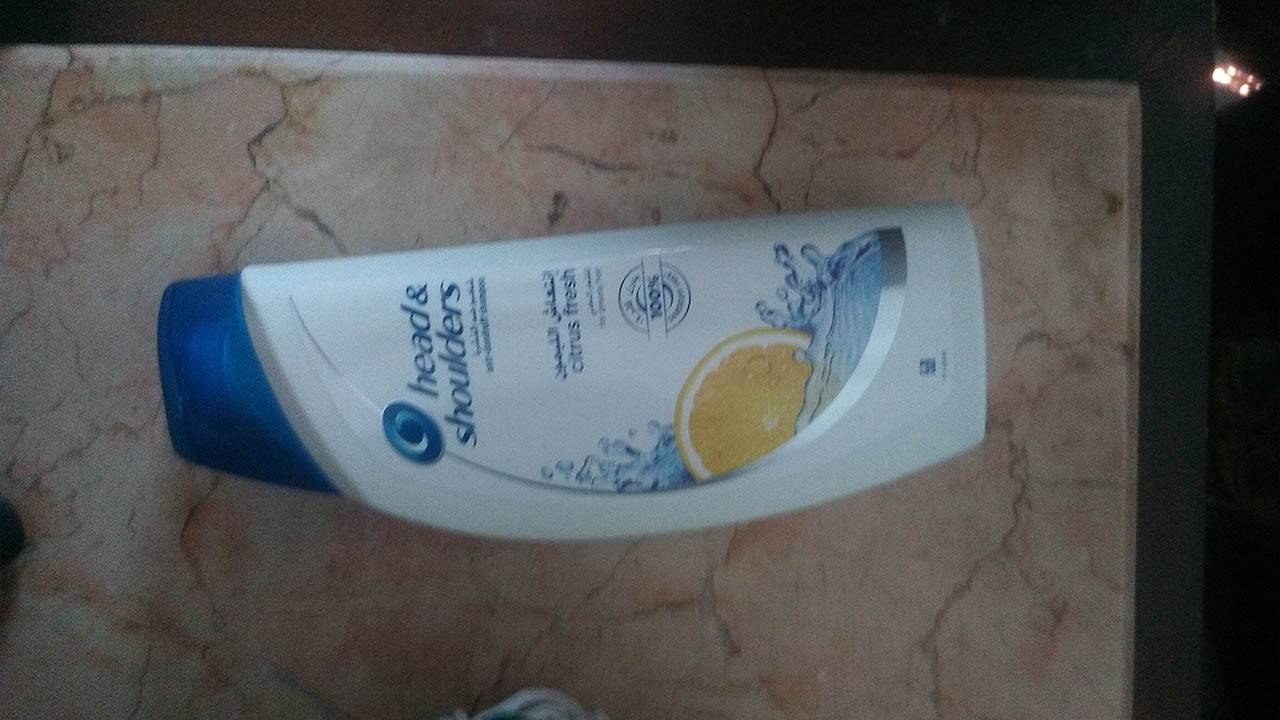shampoo-Lemon 3.5$: (124, 208, 1017, 514)
